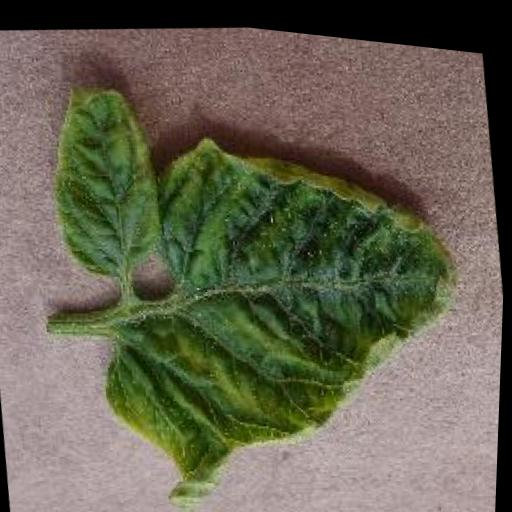Yellow Leaf Curl Virus: (74, 95, 489, 512), (41, 69, 175, 280)
